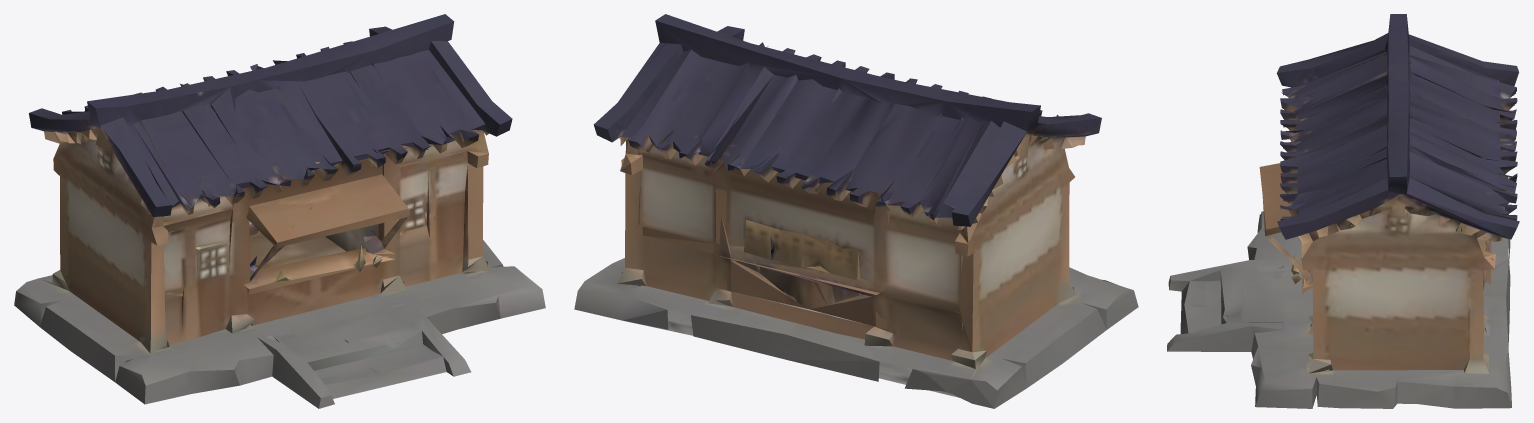
The picture shows the model from 3 angles, left to right: view 1: azimuth 30°, elevation 25°; view 2: azimuth 150°, elevation 25°; view 3: azimuth 270°, elevation 25°; orthographic projection. The views are drawn at different scales.
Parts seen in each view (by area): view 1: geometry_0; view 2: geometry_0; view 3: geometry_0.
Boxes of the visible parts, x1,y1,x2,y2 form: geometry_0: (14, 14, 545, 408); geometry_0: (574, 14, 1138, 408); geometry_0: (1167, 14, 1519, 408).
Size of the model in its own units: 0.9991 by 0.5651 by 0.8123.
1 material, 1 textured.
